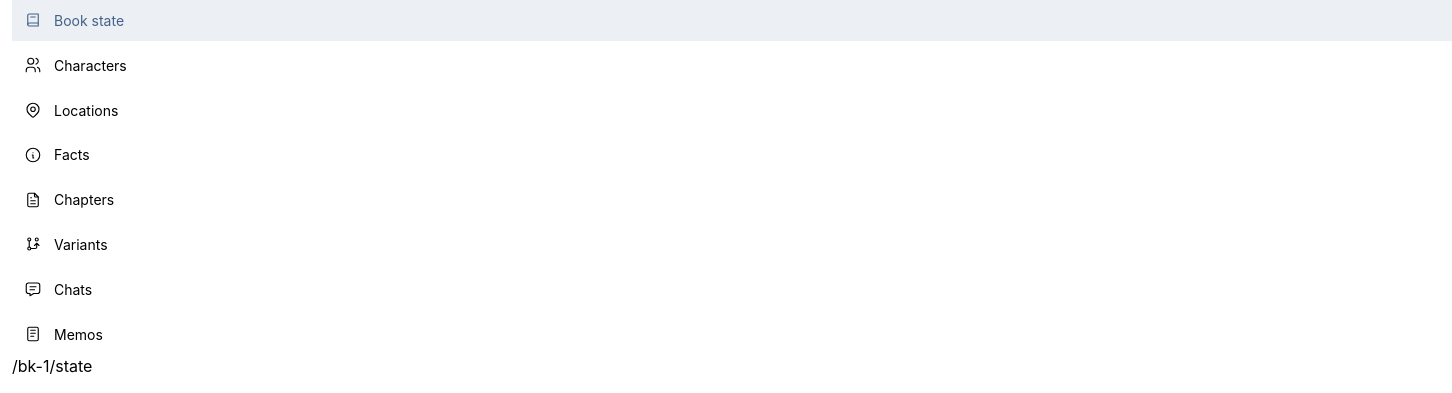
Test: the Chats entry navigates to the chats route (DoD-8) › DoD-8: activating Chats moves the content route to /:bookId/chats (the inversion of 011's contract)
This screenshot has width=1452, height=393.
Expected: the text with test id "pathname" reads "/bk-1/state", [12,356,92,376]
Click the link "Chats": {"x": 58, "y": 289} [24,280,92,298]
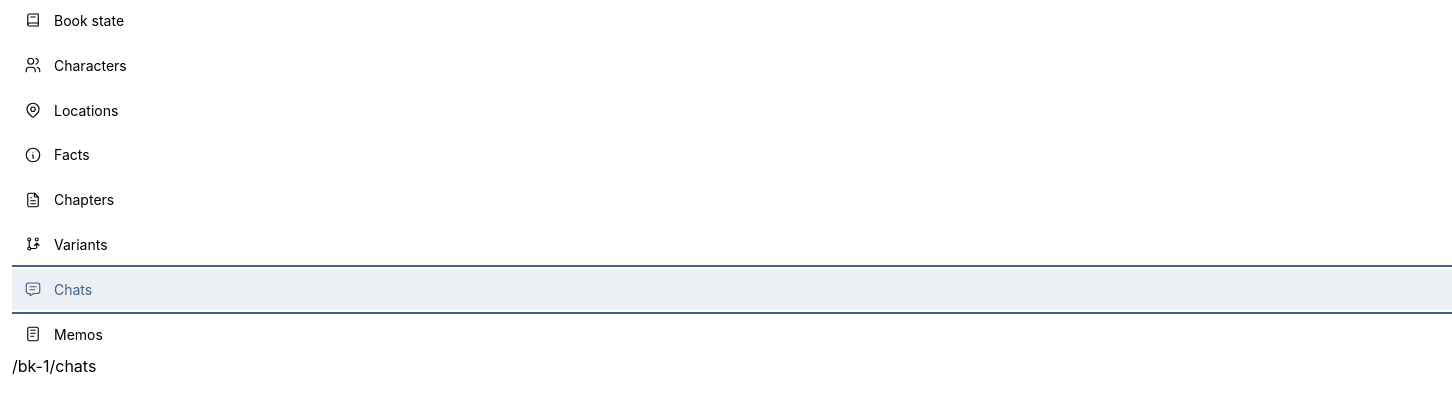
Result: the text with test id "pathname" reads "/bk-1/chats" at [12,356,96,376]
